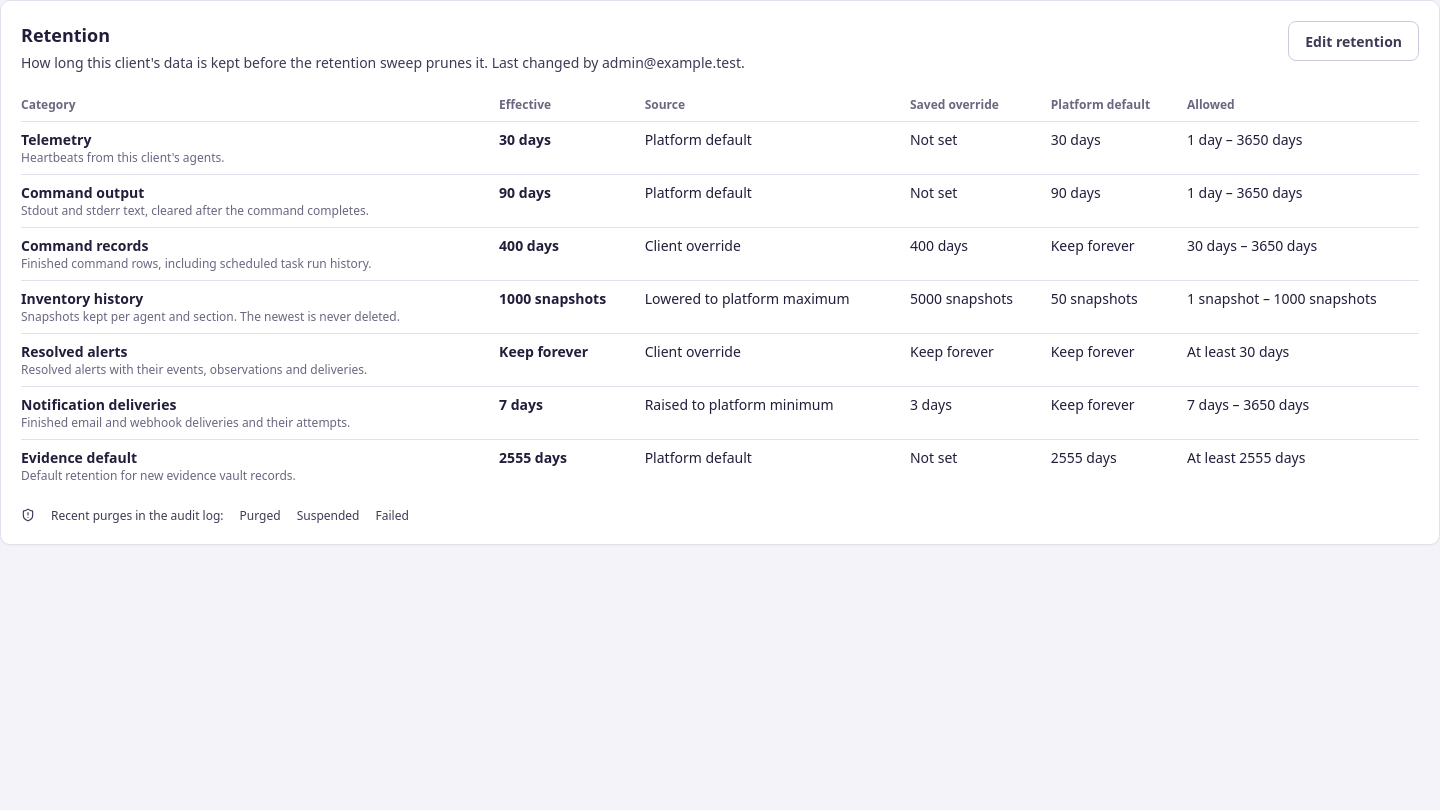
Test: a 422 is shown on the field the server named
Click the button "Edit retention" at (1354, 41), box x1=1288 y1=21 x2=1419 y2=61
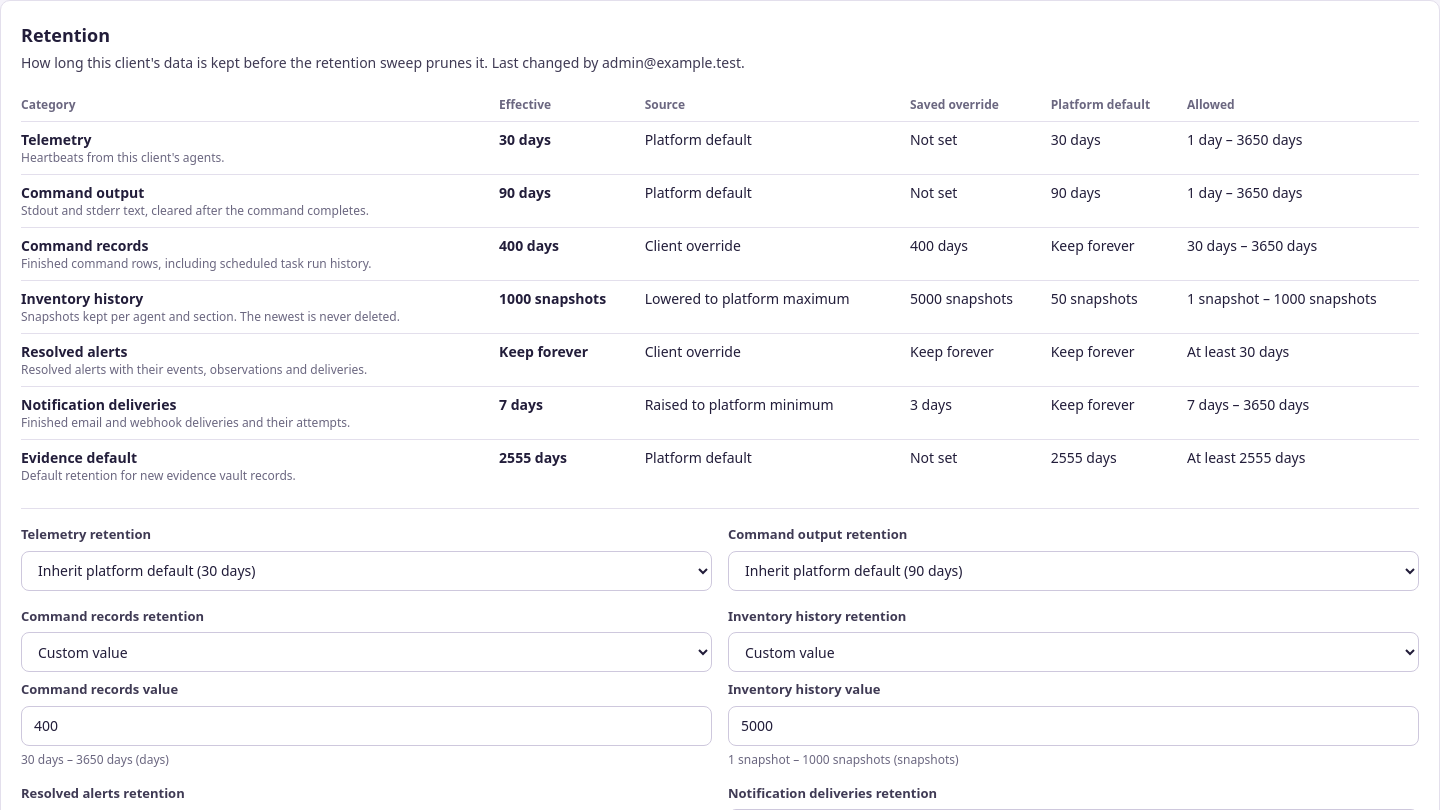
Select "Custom value" in the dropdown labelled "Inventory history retention" at (1074, 652), box x1=728 y1=632 x2=1419 y2=672
Replace the text in the field labelled "Inventory history value" with "1000" at (1074, 726), box x1=728 y1=706 x2=1419 y2=746
(page scrolled)
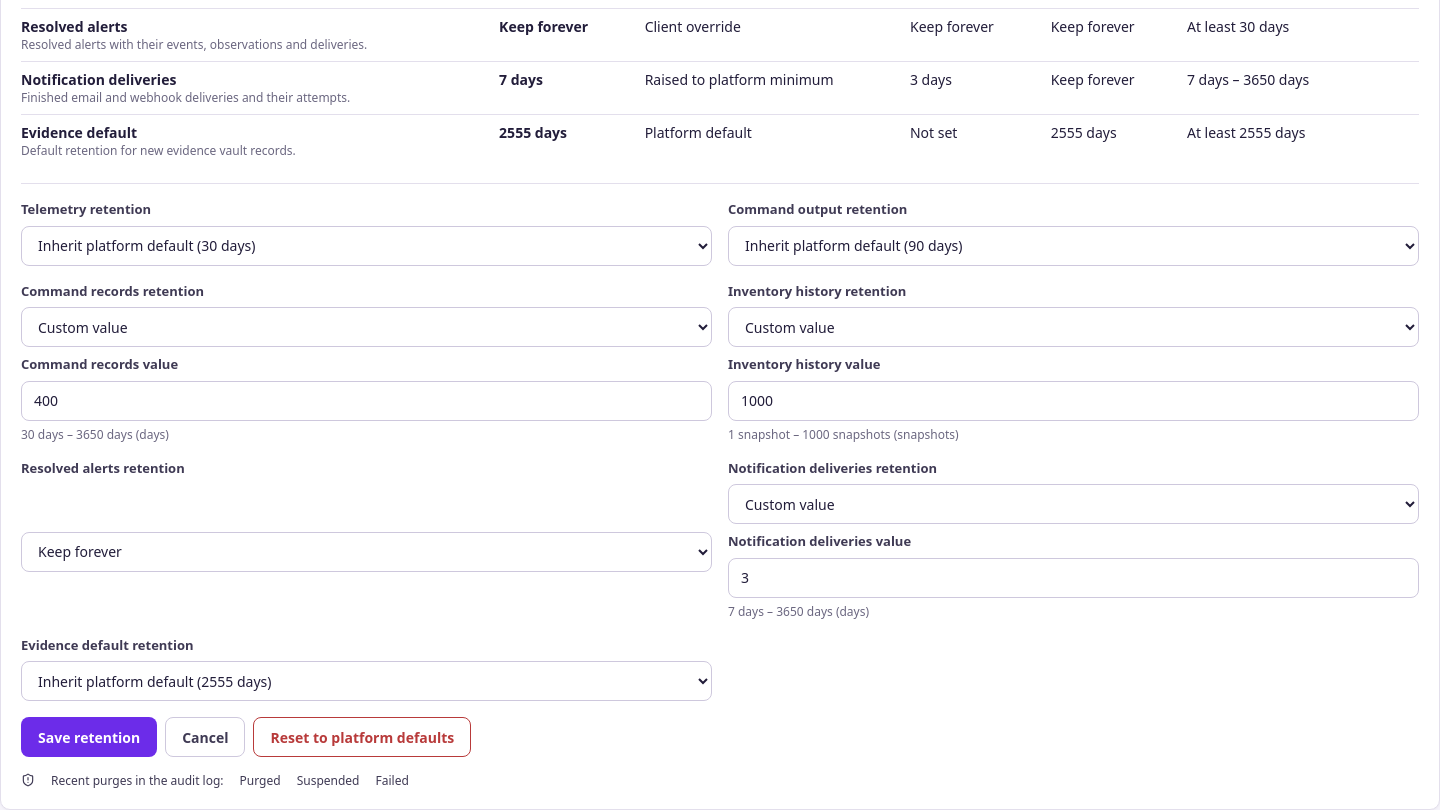
Select "Inherit platform default (Keep forever)" in the dropdown labelled "Notification deliveries retention" at (1074, 504), box x1=728 y1=484 x2=1419 y2=524
(page scrolled)
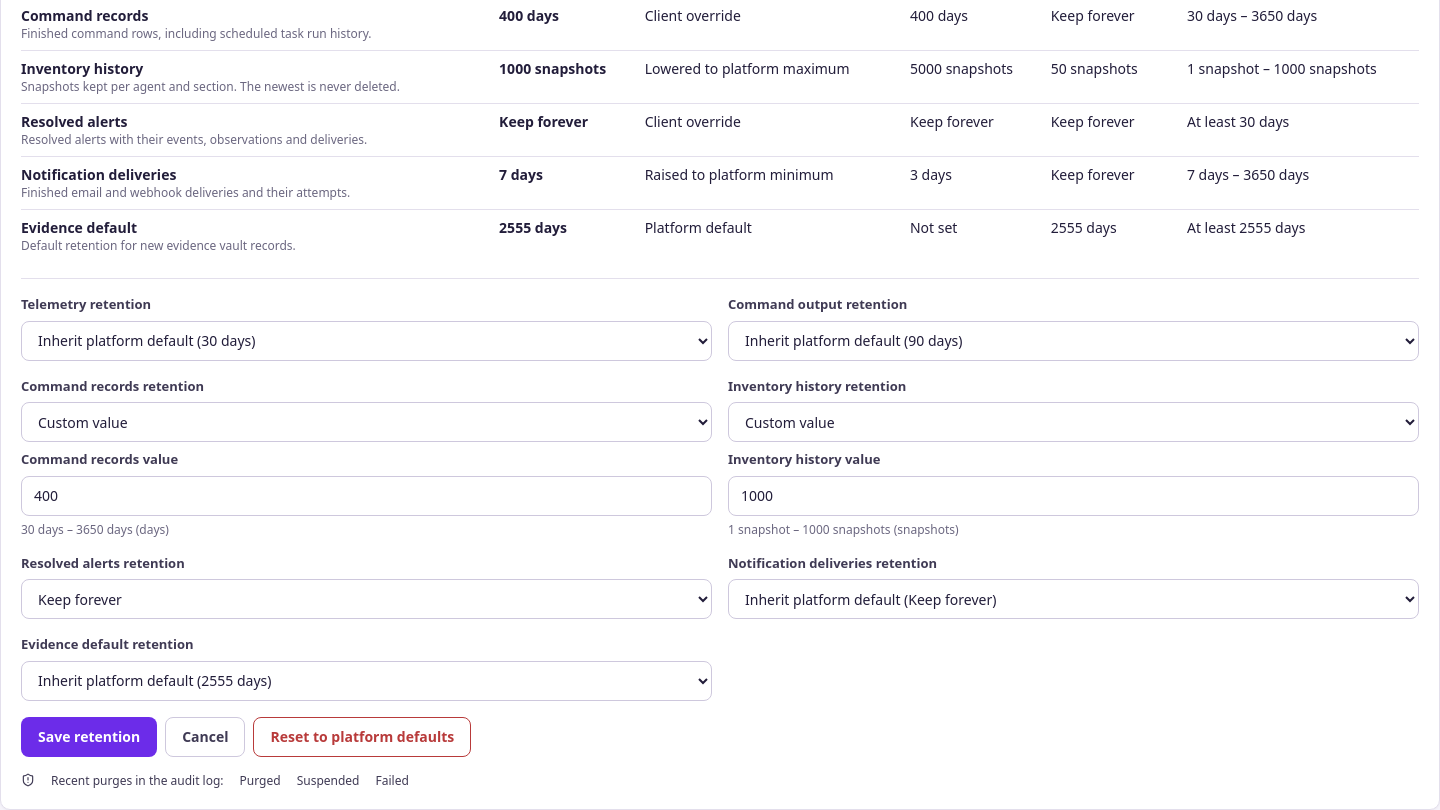
Select "Custom value" in the dropdown labelled "Telemetry retention" at (366, 340), box x1=21 y1=320 x2=712 y2=360
(page scrolled)
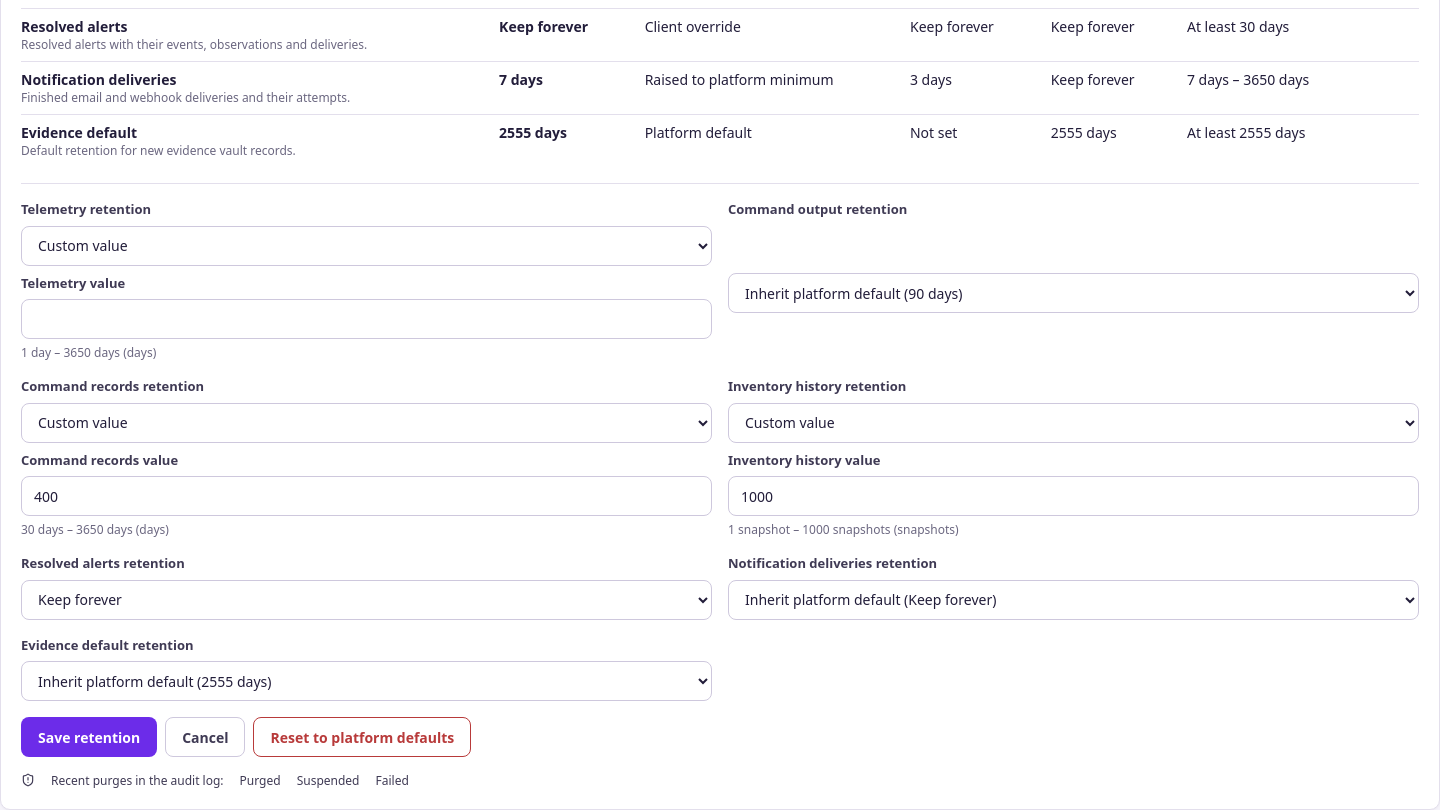
Type "60" into the field labelled "Telemetry value" at (366, 319), box x1=21 y1=299 x2=712 y2=339
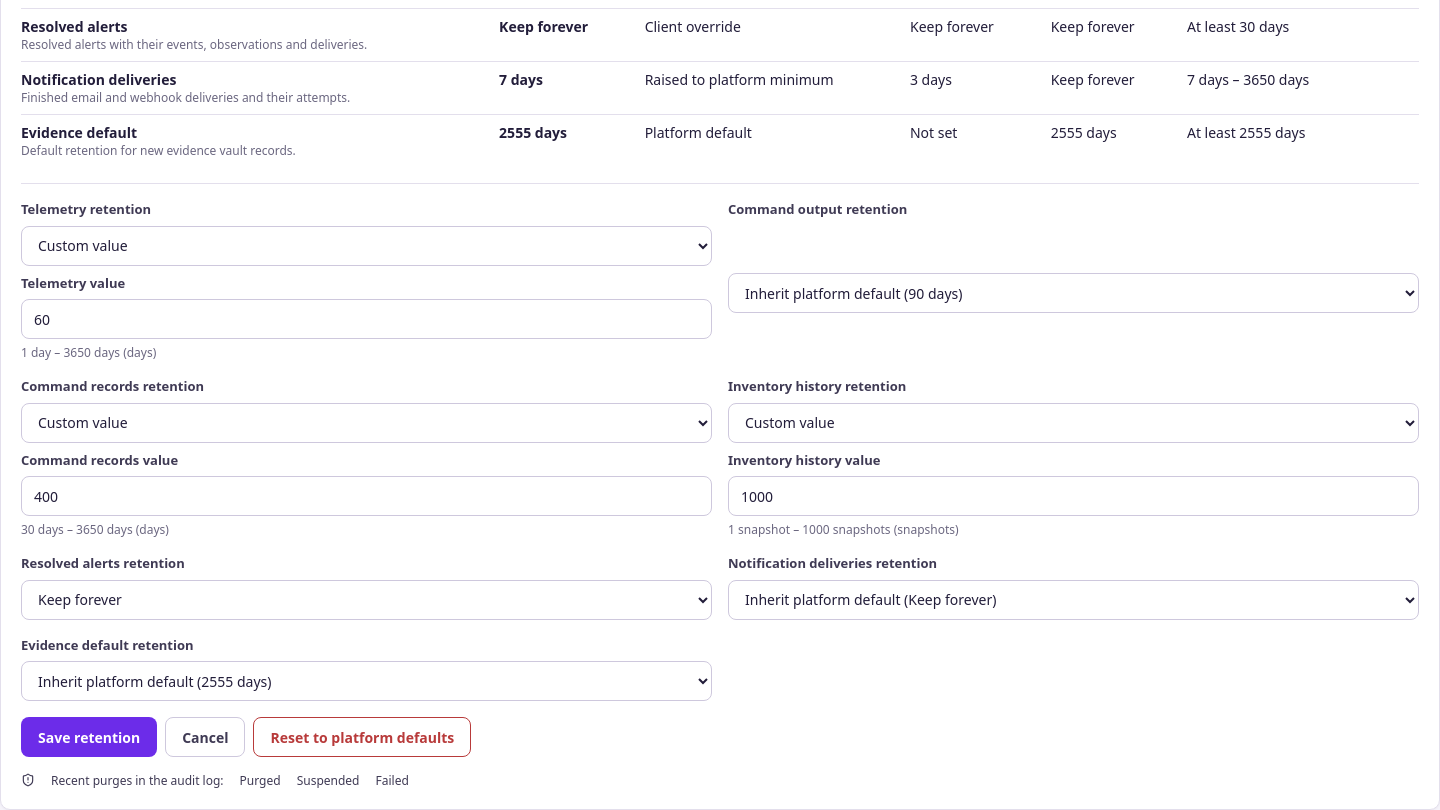
Click the button "Save retention" at (89, 737), box x1=21 y1=717 x2=157 y2=757
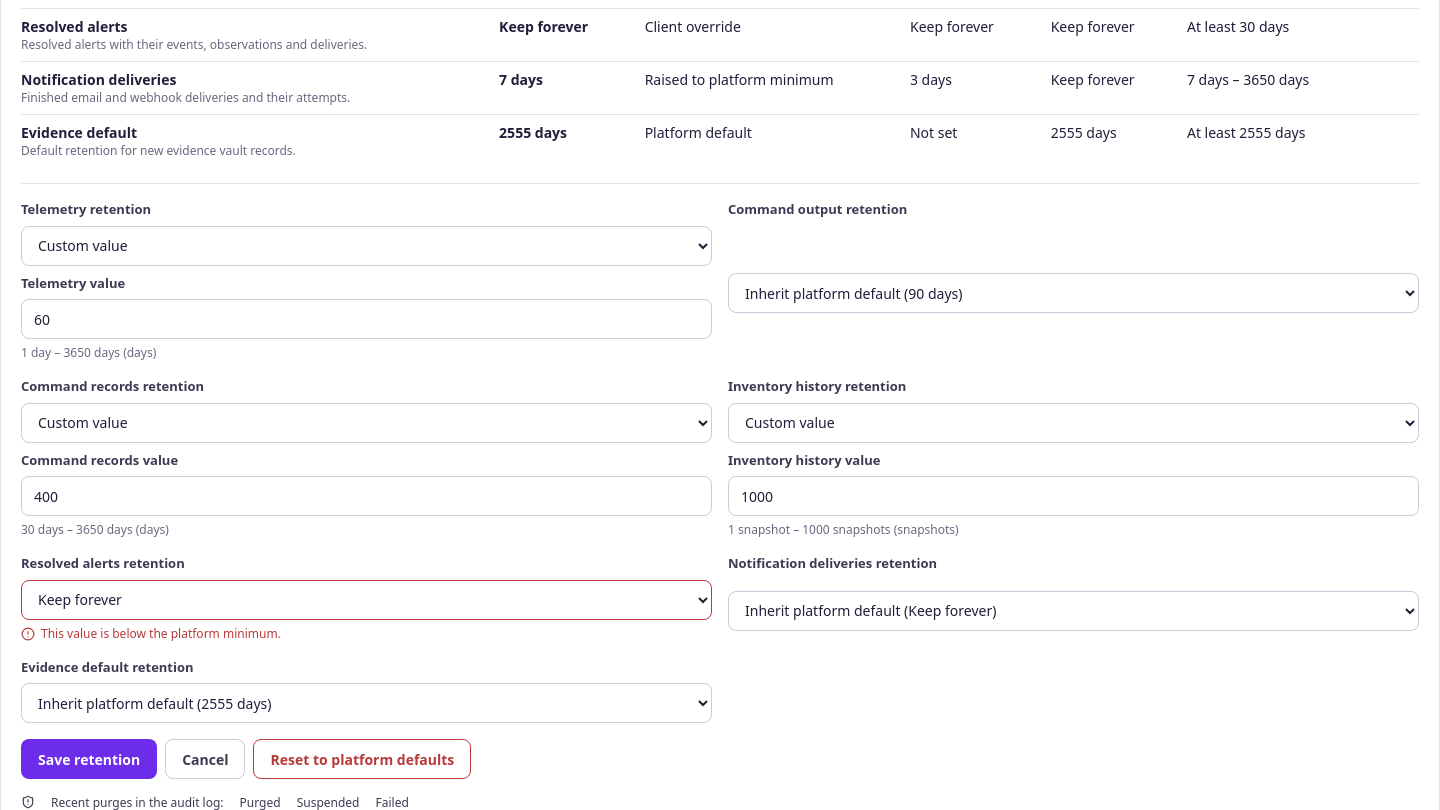
expect the text "This value is below the platform minimum." is shown: met, box x1=21 y1=624 x2=281 y2=642
